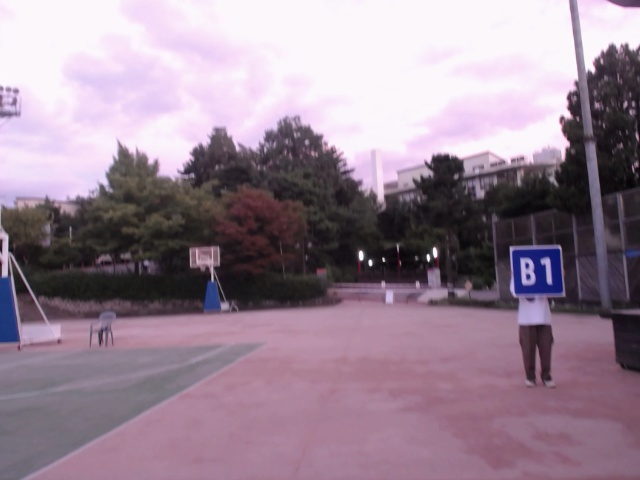delivery_b1: (511, 246, 563, 296)
